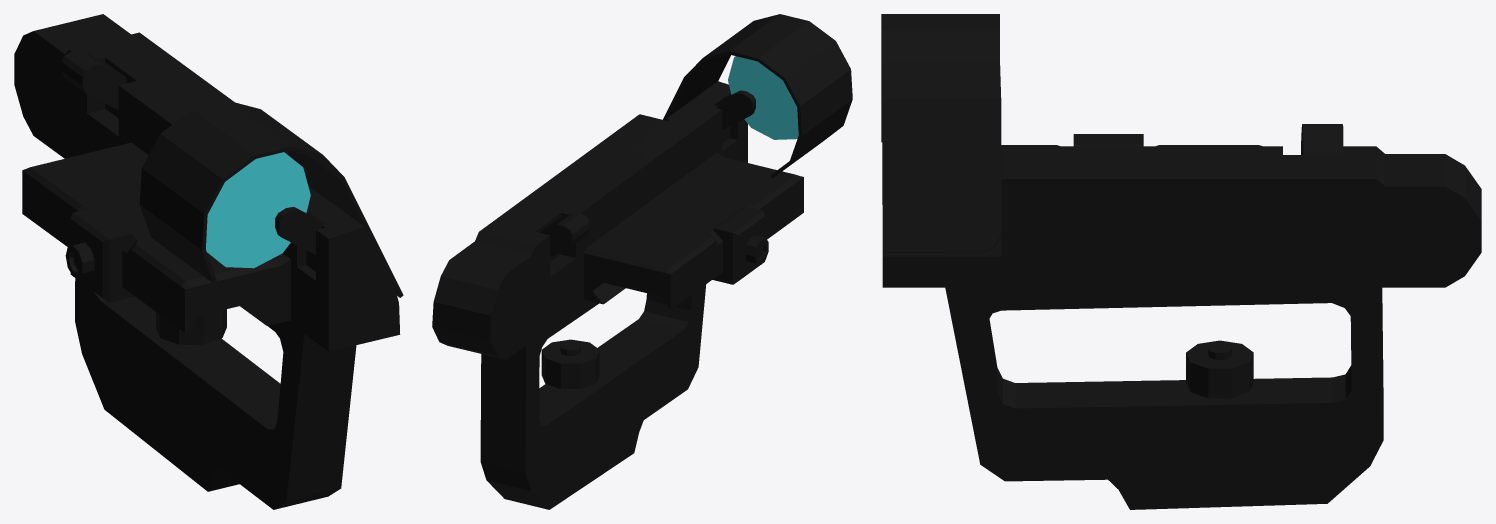
Rendered from okp7 sight.fbx.
The picture shows the model from 3 angles, left to right: view 1: azimuth 30°, elevation 25°; view 2: azimuth 150°, elevation 25°; view 3: azimuth 270°, elevation 25°; orthographic projection. The views are drawn at different scales.
Visible parts, largest first — view 1: Sight base, Russian mount, Picatinny Mount, Lens; view 2: Sight base, Russian mount, Picatinny Mount, Lens; view 3: Sight base, Russian mount, Picatinny Mount.
Boxes of the visible parts, left/top/right/bottom form: Sight base: left=14, top=14, right=403, bottom=351; Russian mount: left=75, top=278, right=356, bottom=509; Picatinny Mount: left=22, top=142, right=290, bottom=332; Lens: left=206, top=152, right=310, bottom=268; Sight base: left=432, top=14, right=852, bottom=359; Russian mount: left=480, top=284, right=706, bottom=509; Picatinny Mount: left=584, top=152, right=803, bottom=309; Lens: left=728, top=56, right=798, bottom=139; Sight base: left=881, top=14, right=1481, bottom=287; Russian mount: left=945, top=287, right=1383, bottom=509; Picatinny Mount: left=1001, top=134, right=1262, bottom=146.
Bounding box in the file's own units: 4.77 × 9.79 × 12.35.
